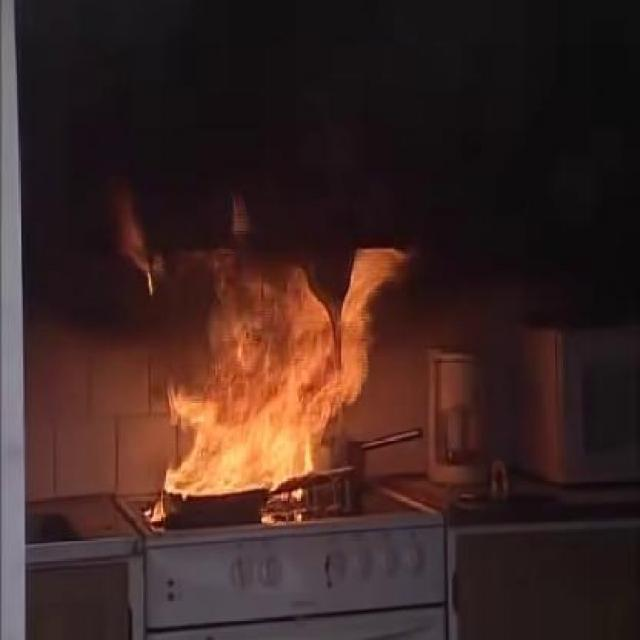fire: (164, 212, 381, 492)
